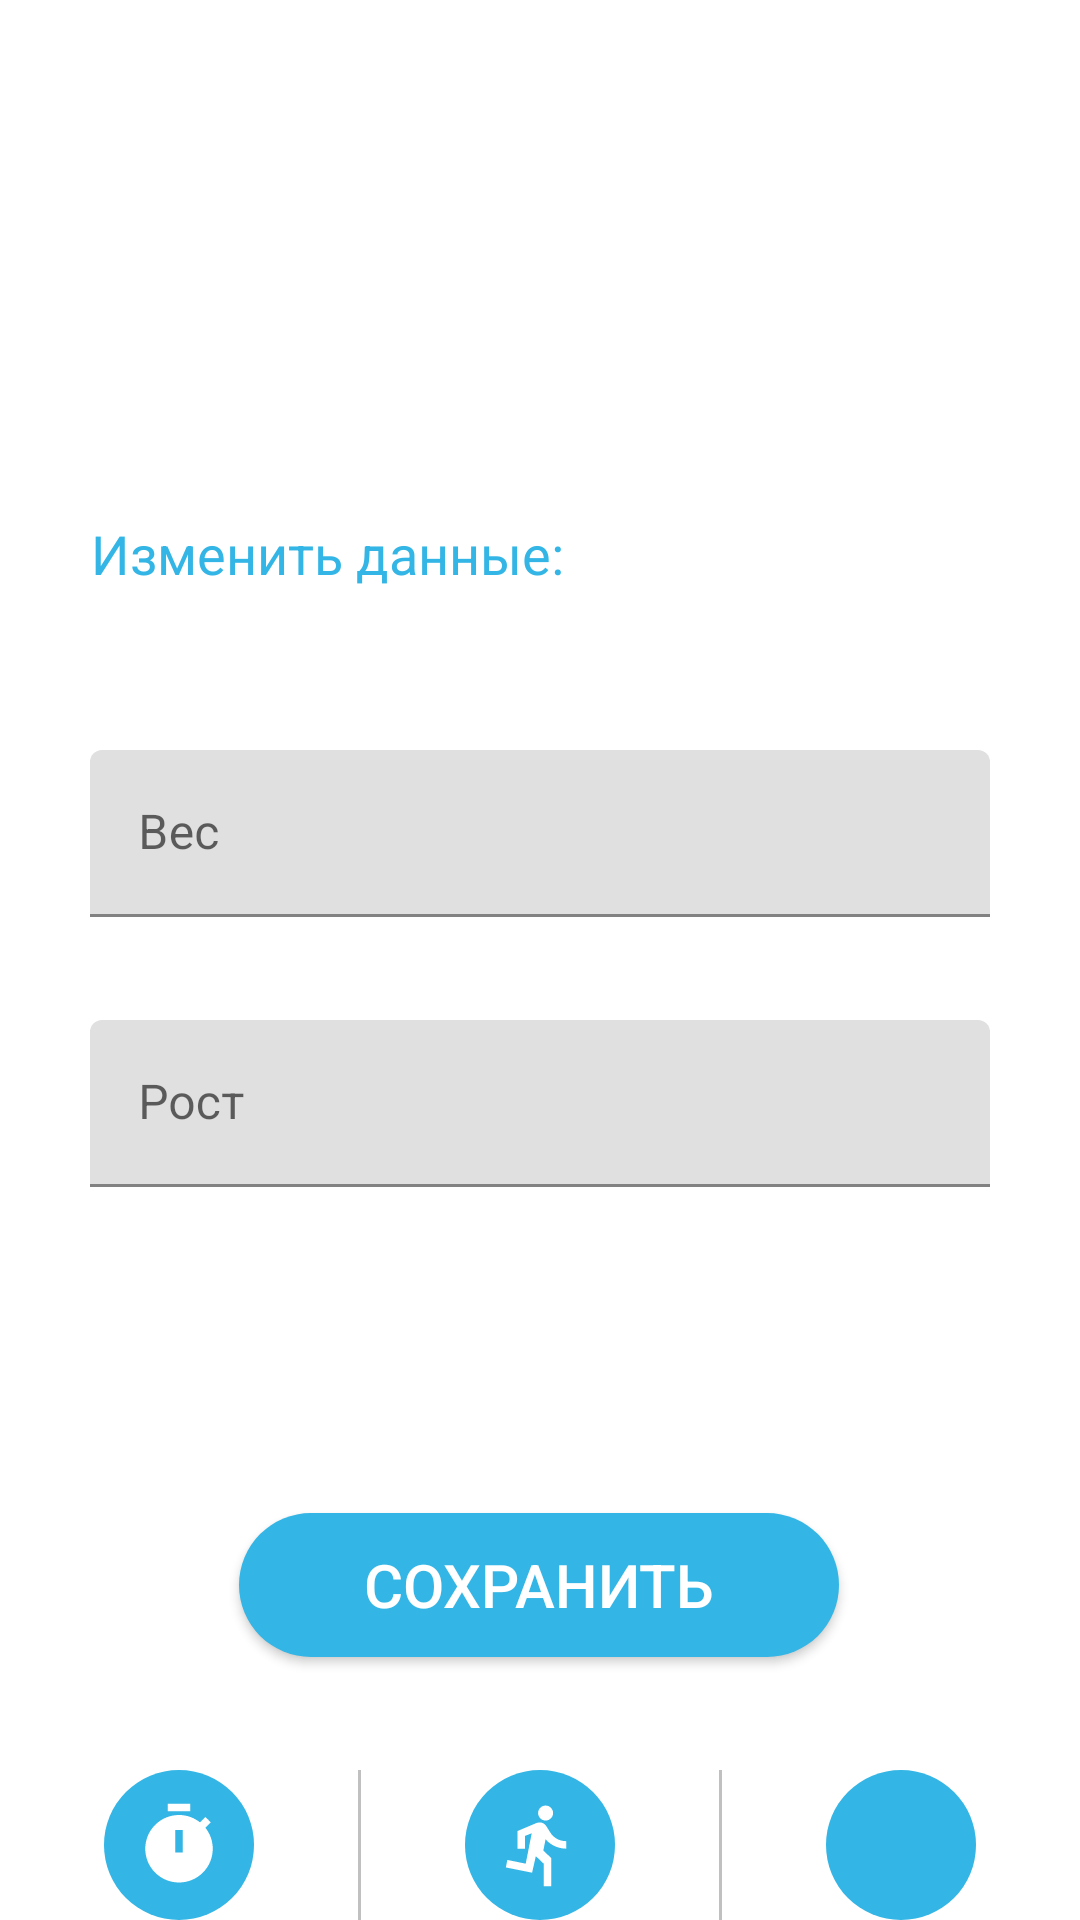

Locate icon controls on the screen. Image size 1080x1920, boxes as (x1, y1, x2, y2).
directions run: (465, 1770, 615, 1920)
timer: (104, 1770, 254, 1920)
